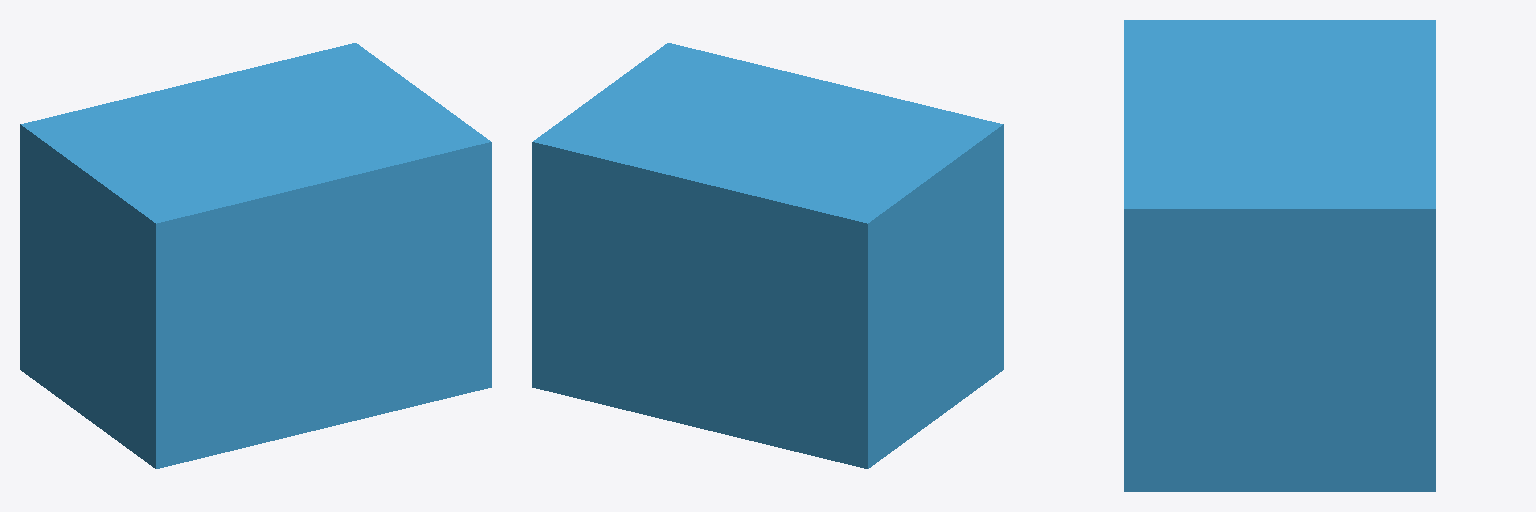
URDF robot description (cube5):
<?xml version="1.0" ?>
<!-- =================================================================================== -->
<!-- |    This document was autogenerated by xacro from [local-path]/ws_velma/underlay/src/barrett_hand_robot/barrett_hand_defs/robots/barrett_hand.urdf.xml | -->
<!-- |    EDITING THIS FILE BY HAND IS NOT RECOMMENDED                                 | -->
<!-- =================================================================================== -->
<robot name="cube5" xmlns:controller="http://playerstage.sourceforge.net/gazebo/xmlschema/#controller" xmlns:geom="http://playerstage.sourceforge.net/gazebo/xmlschema/#geom" xmlns:interface="http://playerstage.sourceforge.net/gazebo/xmlschema/#interface" xmlns:sensor="http://playerstage.sourceforge.net/gazebo/xmlschema/#sensor" xmlns:xacro="http://www.ros.org/wiki/xacro">
  <material name="DarkGrey">
    <color rgba="0.3 0.3 0.3 1.0"/>
  </material>
  <material name="Red">
    <color rgba="0.3 0.3 0.3 1.0"/>
  </material>
  <material name="Black">
    <color rgba="0 0 0 1.0"/>
  </material>
  <material name="Orange">
    <color rgba="1.0 0.487 0 1.0"/>
  </material>
  <material name="Silver">
    <color rgba="1.0 1.0 1.0 1.0"/>
  </material>
  <material name="Grey">
    <color rgba="0.7 0.7 0.7 1.0"/>
  </material>
  <material name="Blue">
    <color rgba="0.0 0.0 0.8 1.0"/>
  </material>
  <material name="HandGray">
    <color rgba="0.953 0.996 0.694 1.0"/>
  </material>
  <material name="SickBlue">
    <color rgba="0.3058 0.5921 0.7294 1.0"/>
  </material>
  <link name="world"/>
  <joint name="arm_world_joint" type="floating">
    <origin rpy="0 0 0" xyz="0 0 0"/>
    <parent link="world"/>
    <child link="cube5"/>
  </joint>
  <link name="cube5">
    <inertial>
      <origin xyz="0.00035500 -0.00499005 0.04864979"/>
      <mass value="0.63352875"/>
      <inertia ixx="0.00102103" ixy="0.00000775" ixz="-0.00001230" iyy="0.00080944" iyz="-0.00014417" izz="0.00068788"/>
    </inertial>
    <visual>
      <origin rpy="0 0 0" xyz="0 0 0"/>
      <geometry>
        <mesh filename="package://barrett_hand_sim_dart/meshes/cuboid.stl"/>
      </geometry>
    </visual>
    <!-- collision mesh used for whole arm motion planning -->
    <!-- collision mesh used for grasp planning -->
    <collision>
      <origin rpy="0 0 0" xyz="0 0 0"/>
      <geometry>
        <mesh filename="package://barrett_hand_sim_dart/meshes/cuboid.stl"/>
      </geometry>
    </collision>
  </link>
  <gazebo reference="cube5">
    <turnGravityOff>true</turnGravityOff>
  </gazebo>
</robot>

--- Render facts (derived) ---
The picture shows the robot from 3 angles, left to right: view 1: azimuth 30°, elevation 25°; view 2: azimuth 150°, elevation 25°; view 3: azimuth 270°, elevation 25°; orthographic projection.
Model cube5 with 2 links and 1 joints (1 floating), rooted at world, posed all joints at 0.
Links seen in each view (by area): view 1: cube5; view 2: cube5; view 3: cube5.
Link boxes in pixels (<box>): cube5: <box>20,43,491,468</box>; cube5: <box>532,43,1003,468</box>; cube5: <box>1124,20,1435,491</box>.
Bounding box of the posed robot: 0.1 × 0.07 × 0.07 m (x, y, z).
Meshes: 1 distinct files referenced, 1 mesh visuals loaded (1 binary STL).
